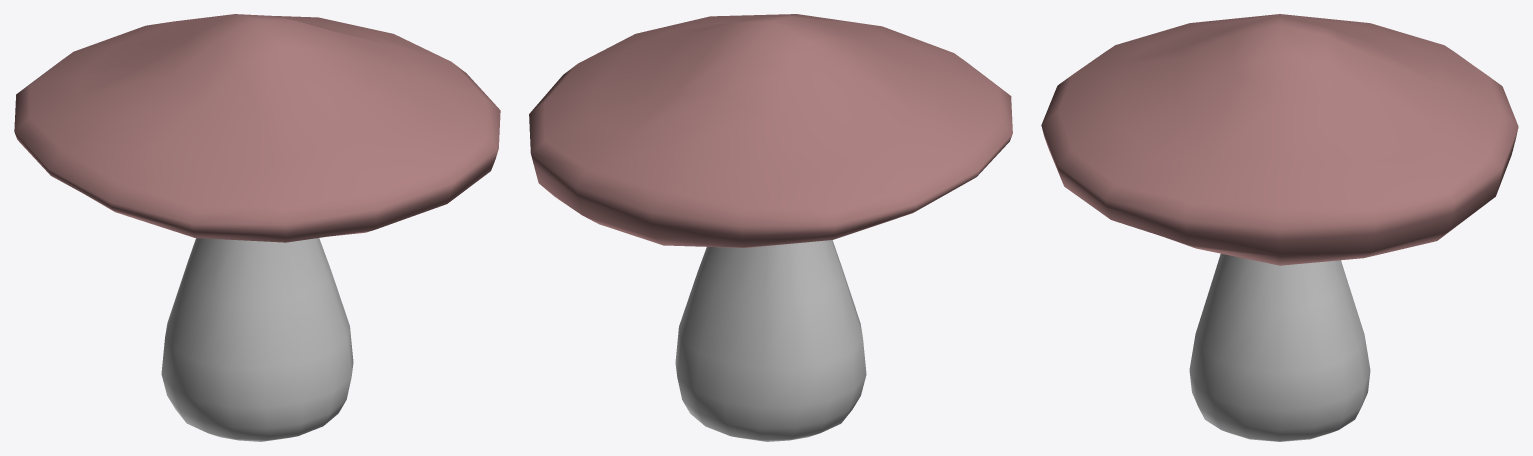
The model's file is M_Mushroom1d.fbx.
The picture shows the model from 3 angles, left to right: view 1: azimuth 30°, elevation 25°; view 2: azimuth 150°, elevation 25°; view 3: azimuth 270°, elevation 25°; orthographic projection.
Visible parts, largest first — view 1: polySurface87; view 2: polySurface87; view 3: polySurface87.
Part boxes in pixels (box(x1,y1,x2,y2)): polySurface87: box(14, 14, 500, 441); polySurface87: box(529, 14, 1012, 441); polySurface87: box(1041, 14, 1518, 441).
Bounding box in the file's own units: 0.2343 × 0.2118 × 0.2343.
